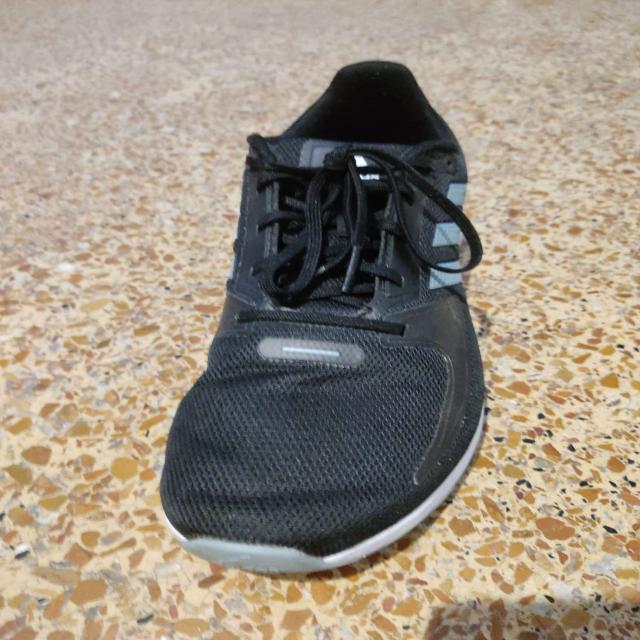shoe: (159, 57, 487, 578)
